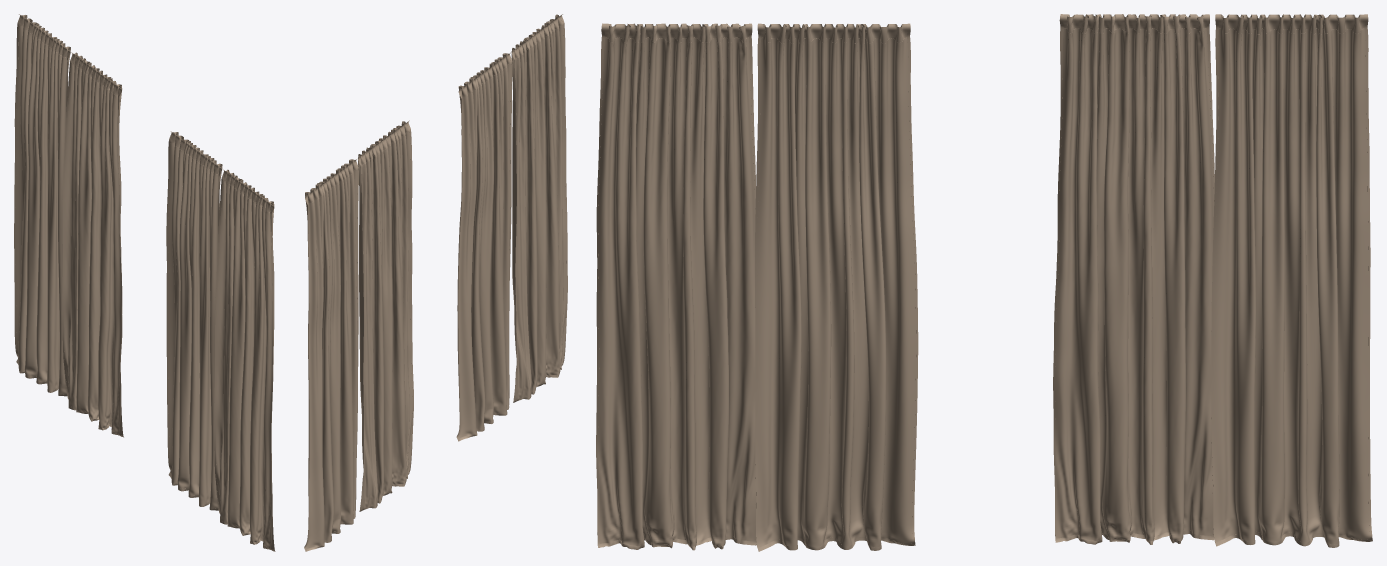
3 views of the same model, side by side, from view 1: azimuth 30°, elevation 25°; view 2: azimuth 150°, elevation 25°; view 3: azimuth 270°, elevation 25° (orthographic). The views are drawn at different scales.
Parts seen in each view (by area): view 1: Item_Curtain.001, Item_Curtain; view 2: Item_Curtain, Item_Curtain.001; view 3: Item_Curtain, Item_Curtain.001.
Part boxes in pixels (x1,y1,x2,y2): Item_Curtain.001: (14,14,123,437); Item_Curtain: (166,131,275,551); Item_Curtain: (456,14,567,441); Item_Curtain.001: (304,120,413,551); Item_Curtain: (596,23,918,551); Item_Curtain.001: (1053,14,1372,547).
Size of the model in its own units: 0.1685 by 3.12 by 4.13.
